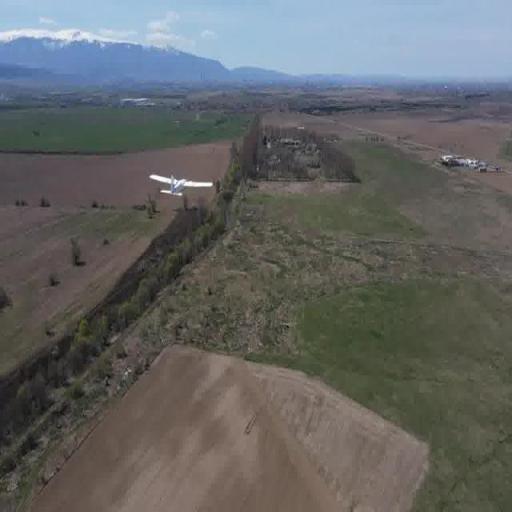uav: (146, 168, 216, 206)
